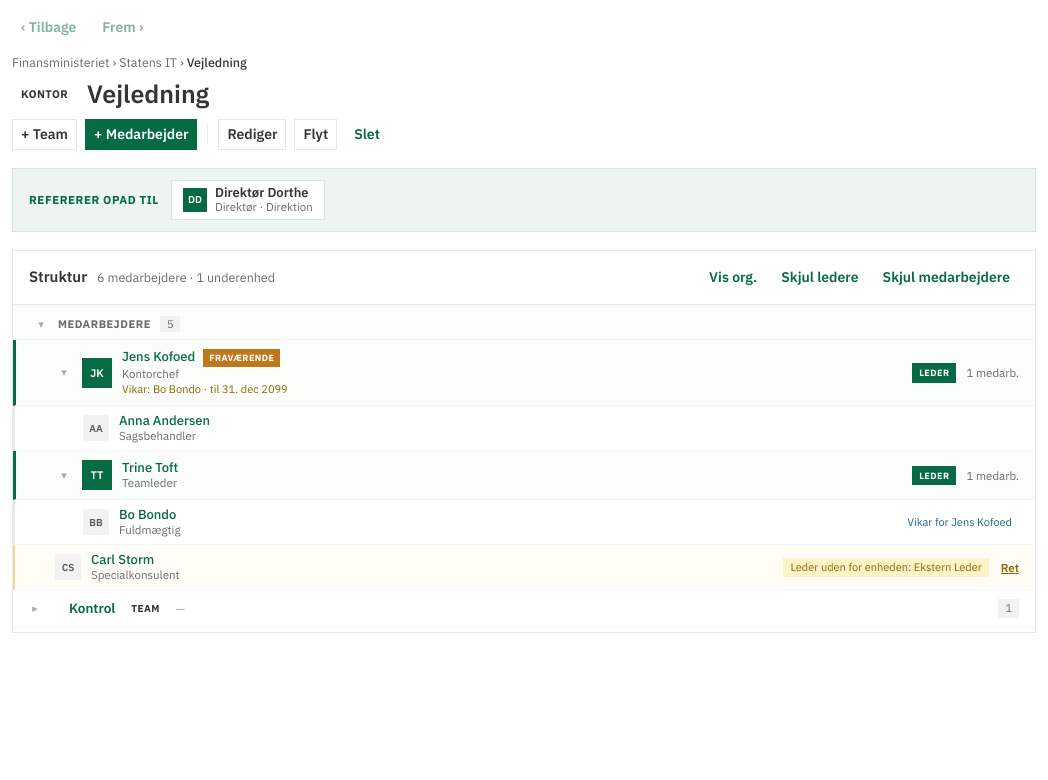
StrukturPanel — the recursive read-only Struktur › the "Vis org./Skjul org." toggle expands all descendant child units
Click the button with test id "toggle-expand-all".
click(733, 278)  # box [700, 262, 766, 293]
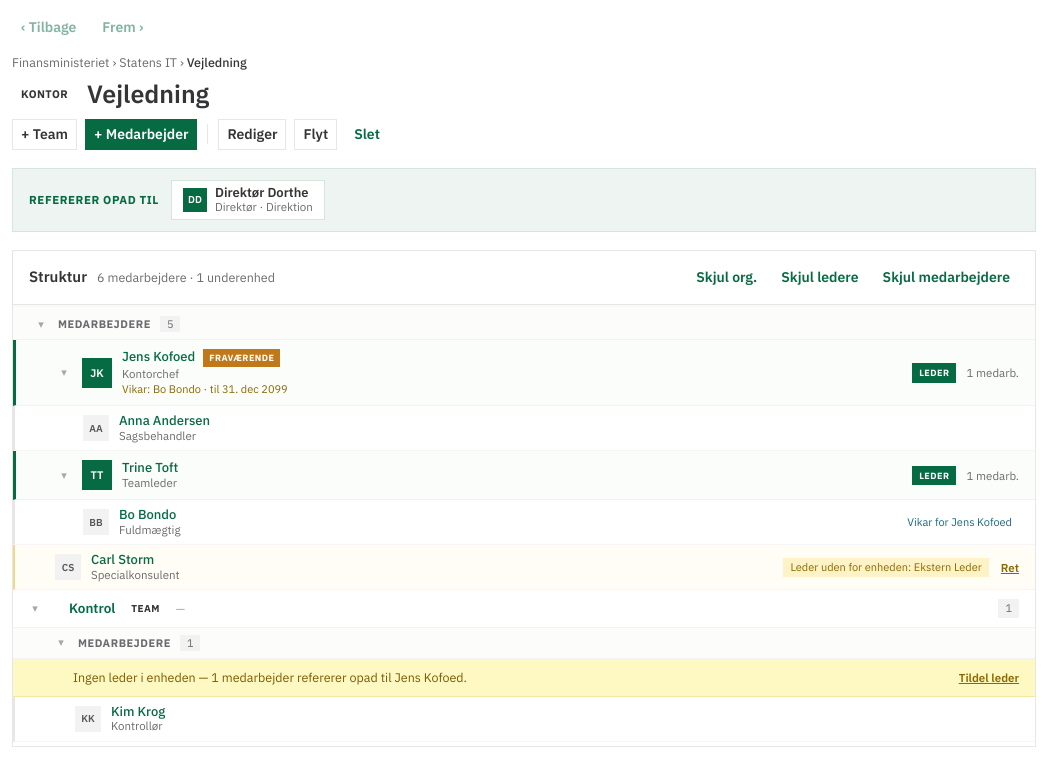
Expected: the element with test id "employee-kim" is shown, [13, 697, 1035, 742]
Expected: the button with test id "toggle-expand-all" reads "Skjul org.", [687, 262, 766, 293]
